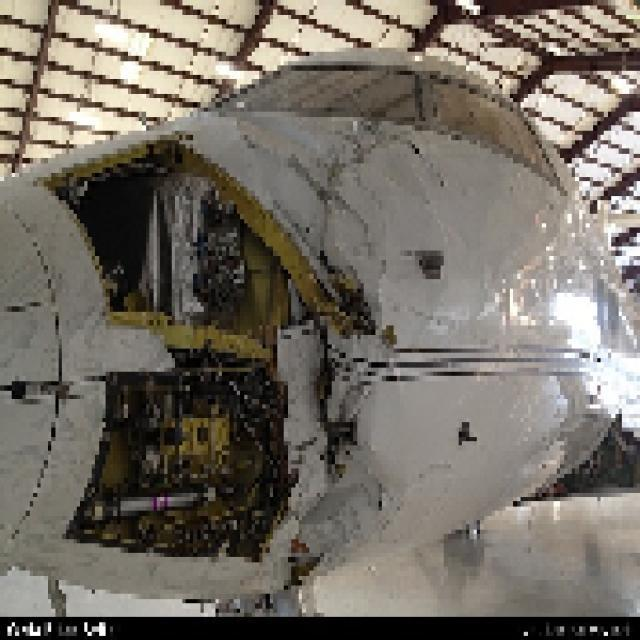crack: (374, 128, 449, 195), (349, 446, 391, 516)
